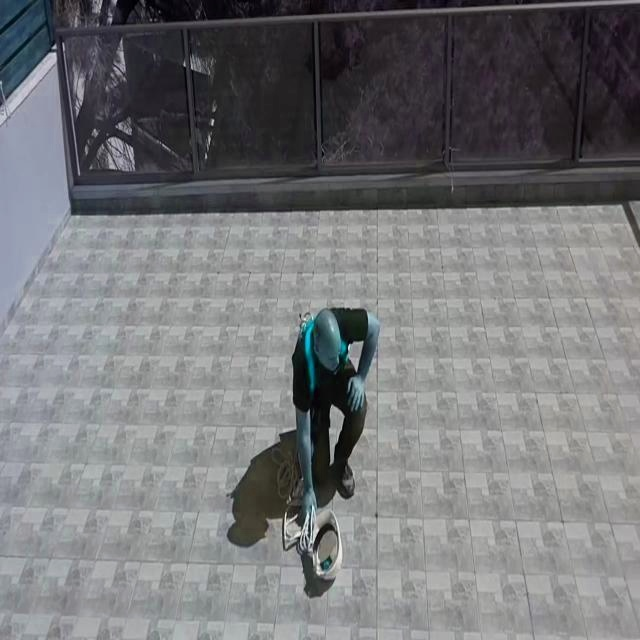safety belt: (286, 322, 357, 380)
